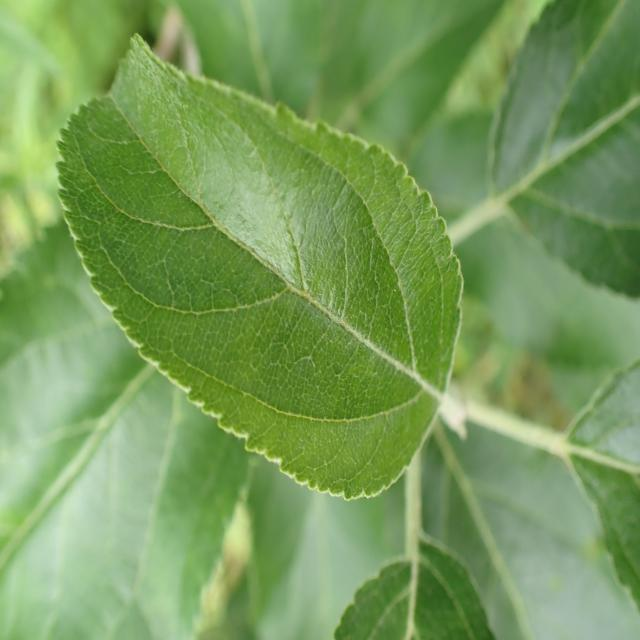healthy: (56, 31, 464, 502), (0, 218, 254, 640), (488, 0, 640, 299), (563, 358, 640, 613), (333, 534, 496, 640)
